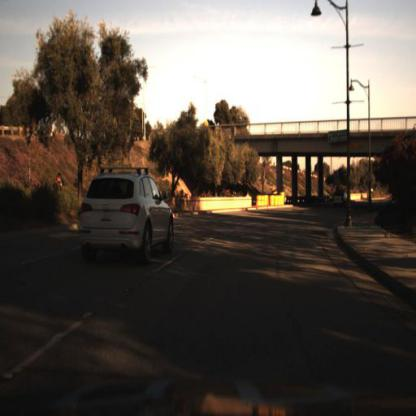car: (79, 162, 175, 266), (332, 191, 349, 213)
